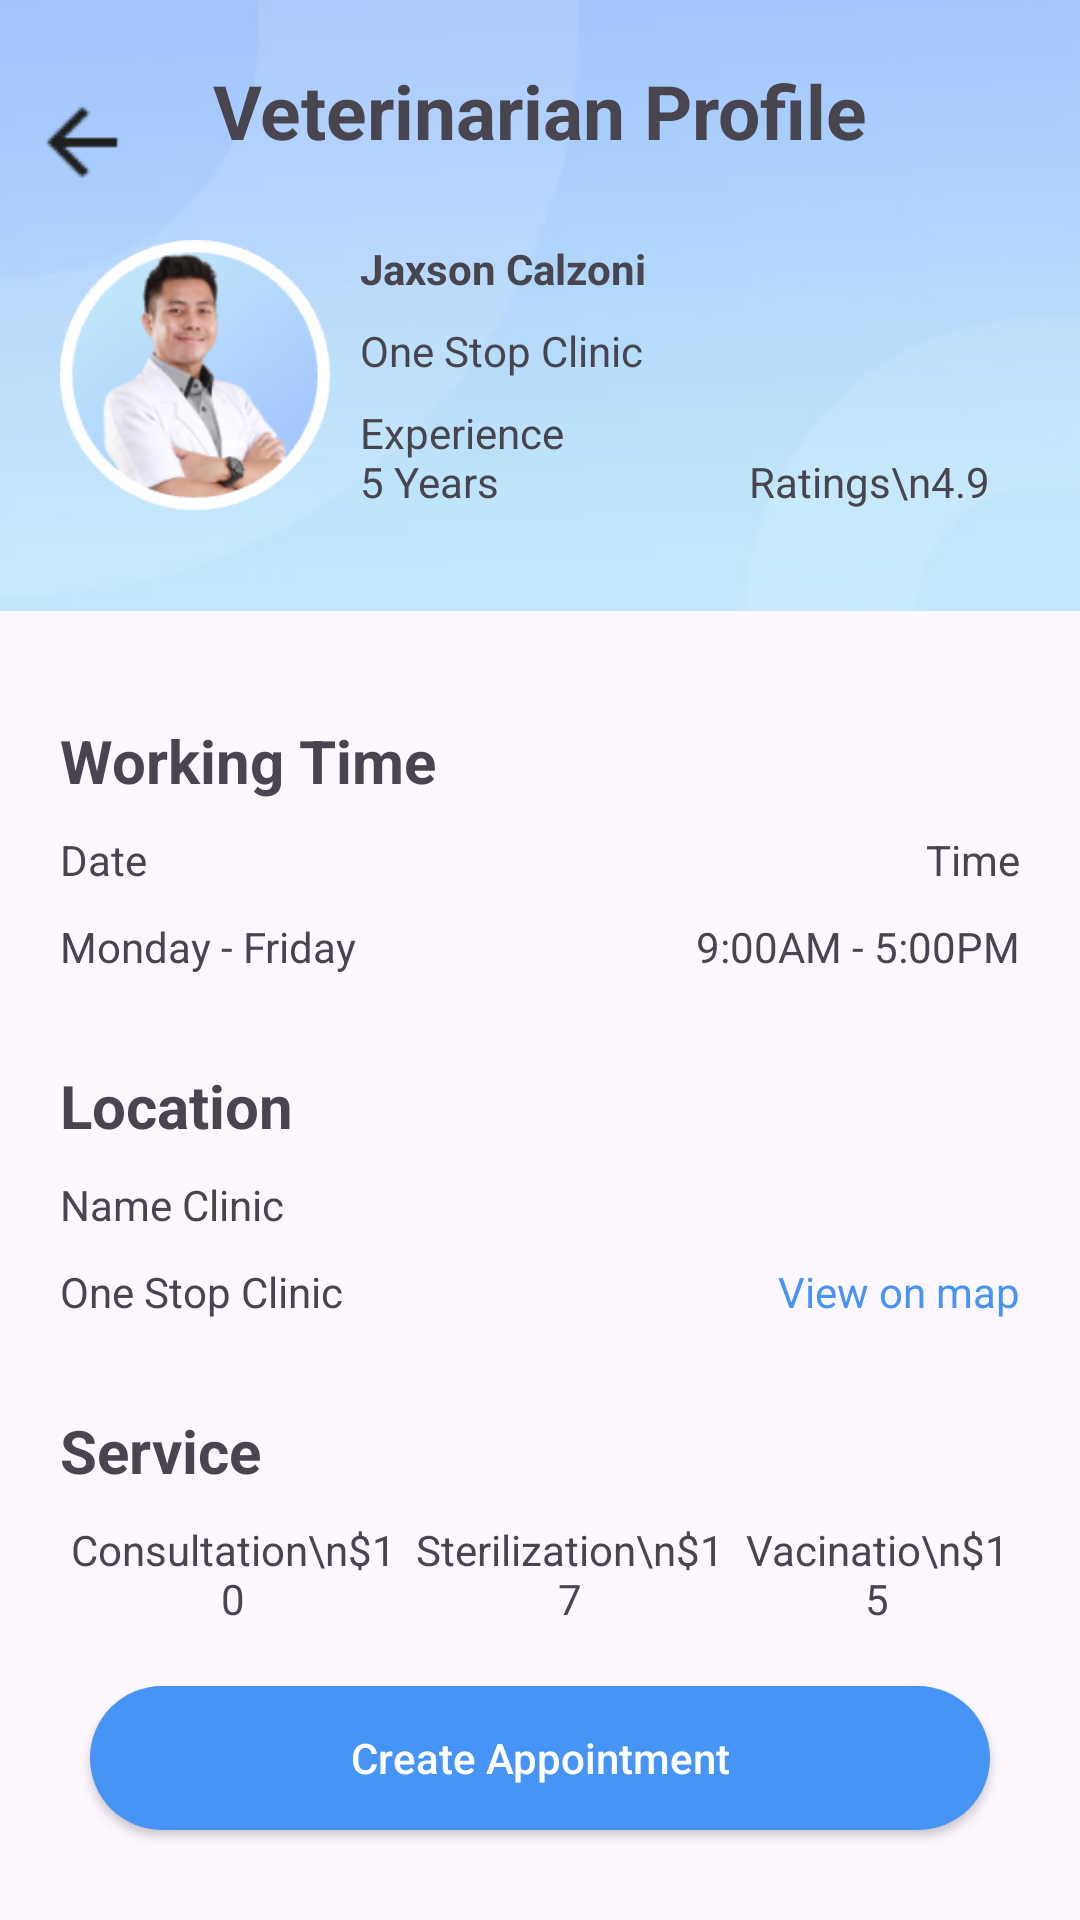

Point at icon controls on the screen. Image size 1080w x 1920h, points as (x,y).
back: (82,142)
